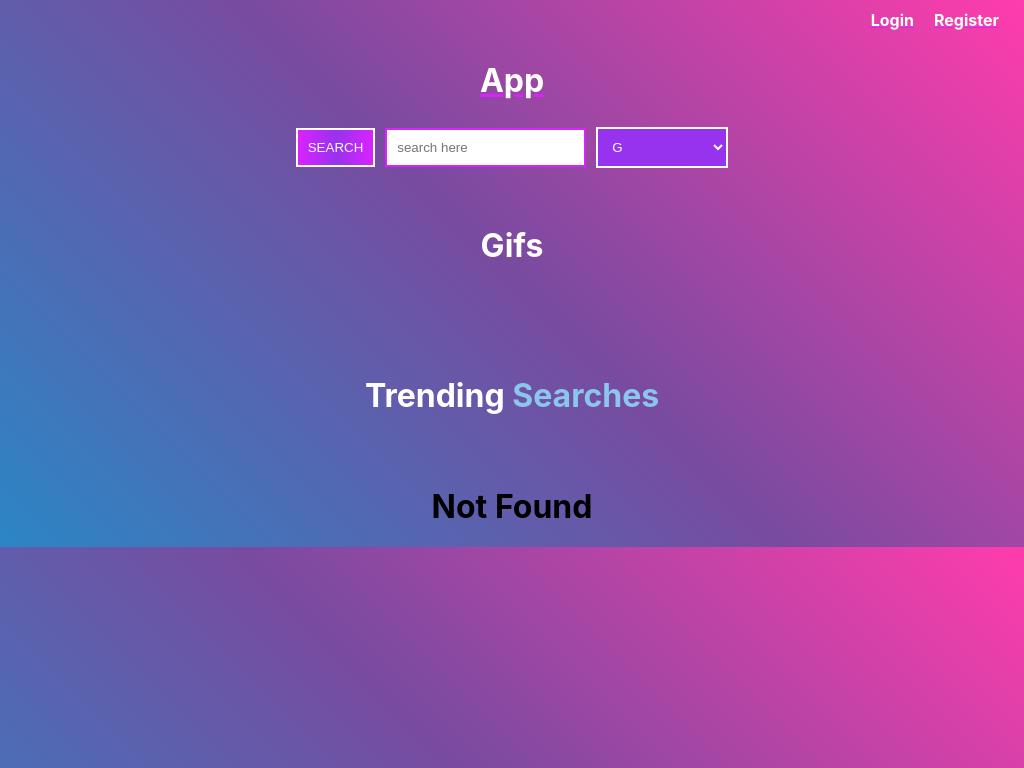
Scenario: Gif App › Logging fails with wrong password UI
Click the link "Login": (893,20) [871,10,914,30]
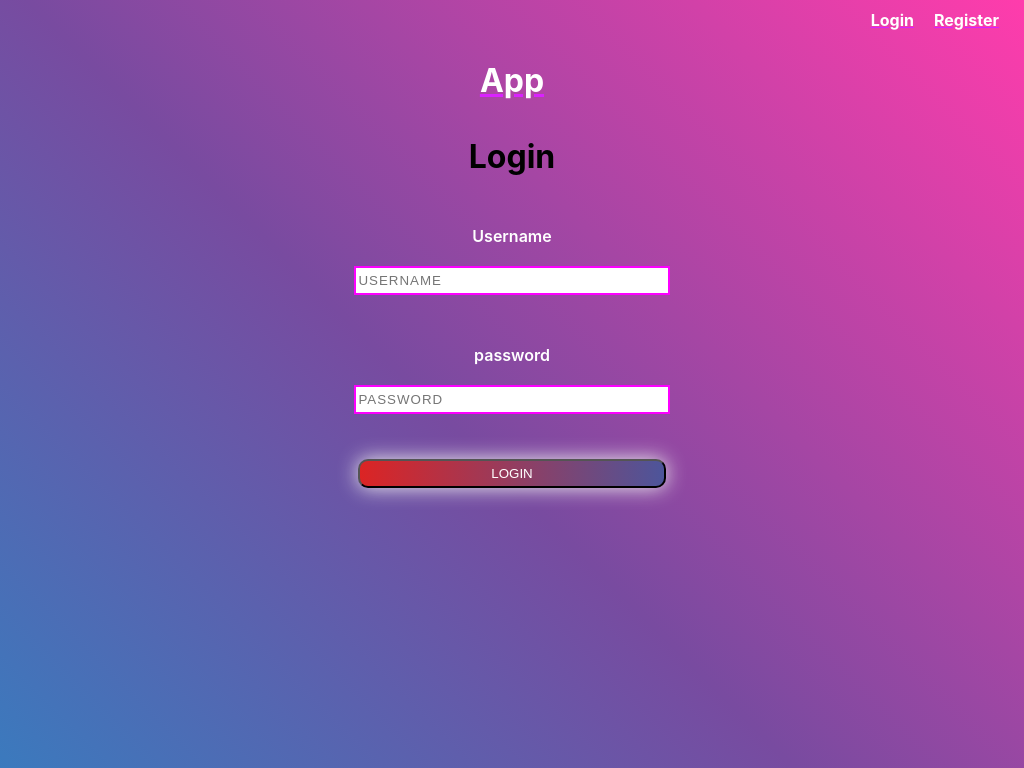
In the field with placeholder "USERNAME": (512,281) [354,266,669,295], type "SebasGecko00"
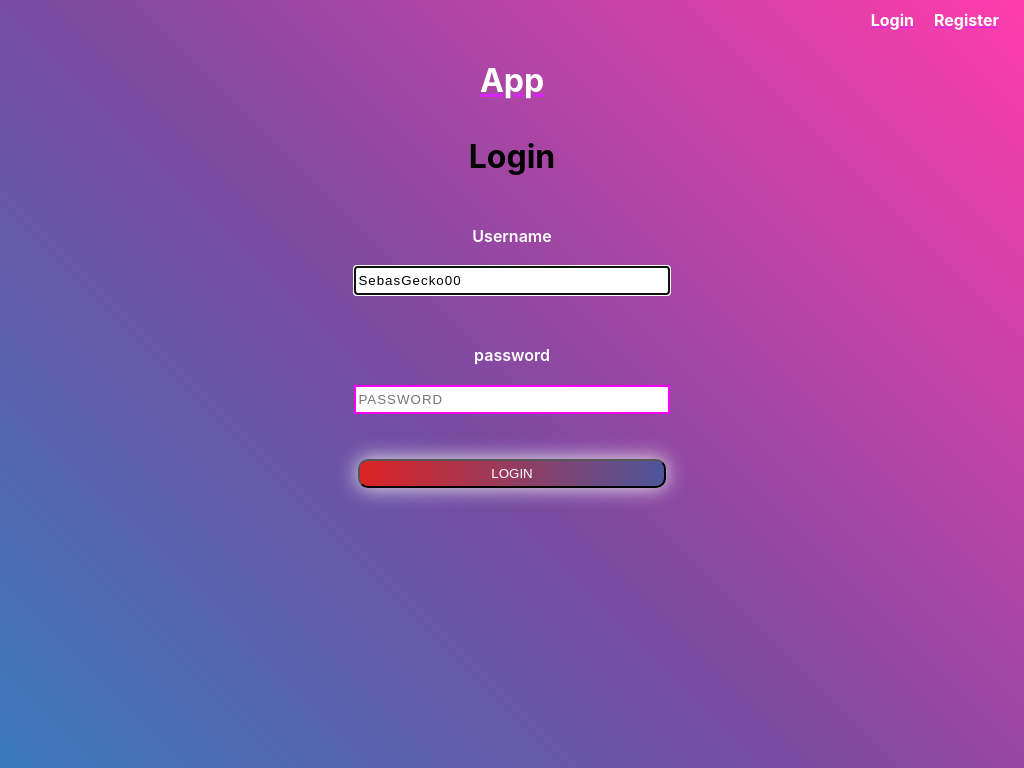
In the password field with placeholder "PASSWORD": (512,400) [354,385,669,414], type "00"
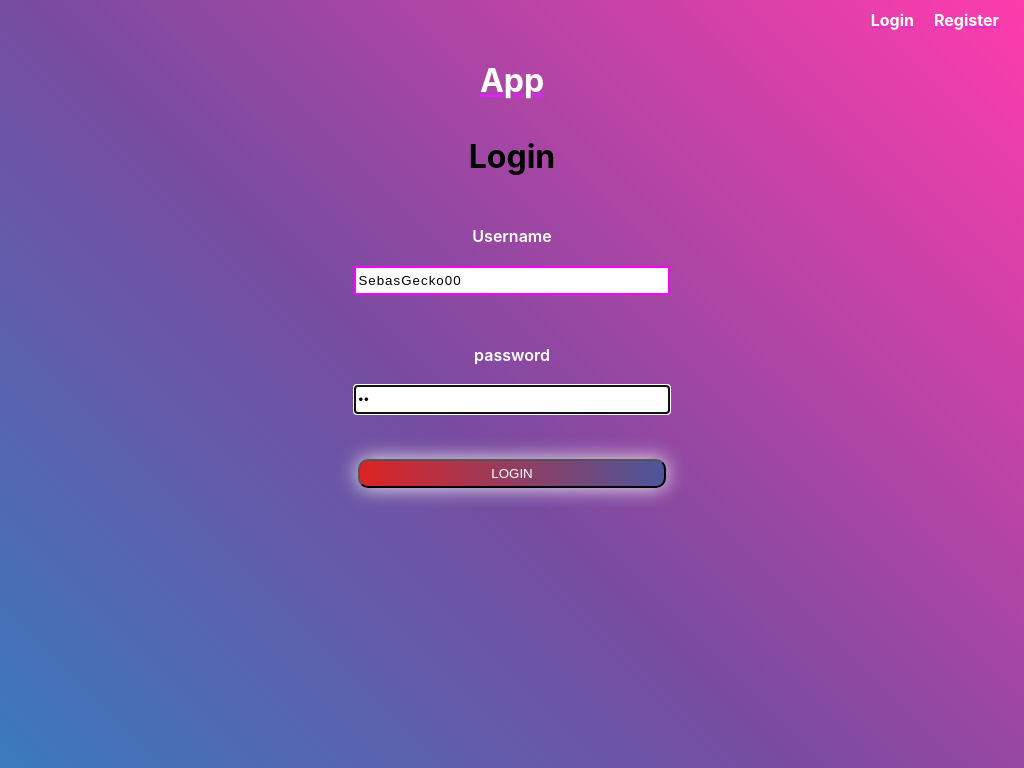
Click the button with id "Test-Button-Login": (512,474) [358,459,665,488]
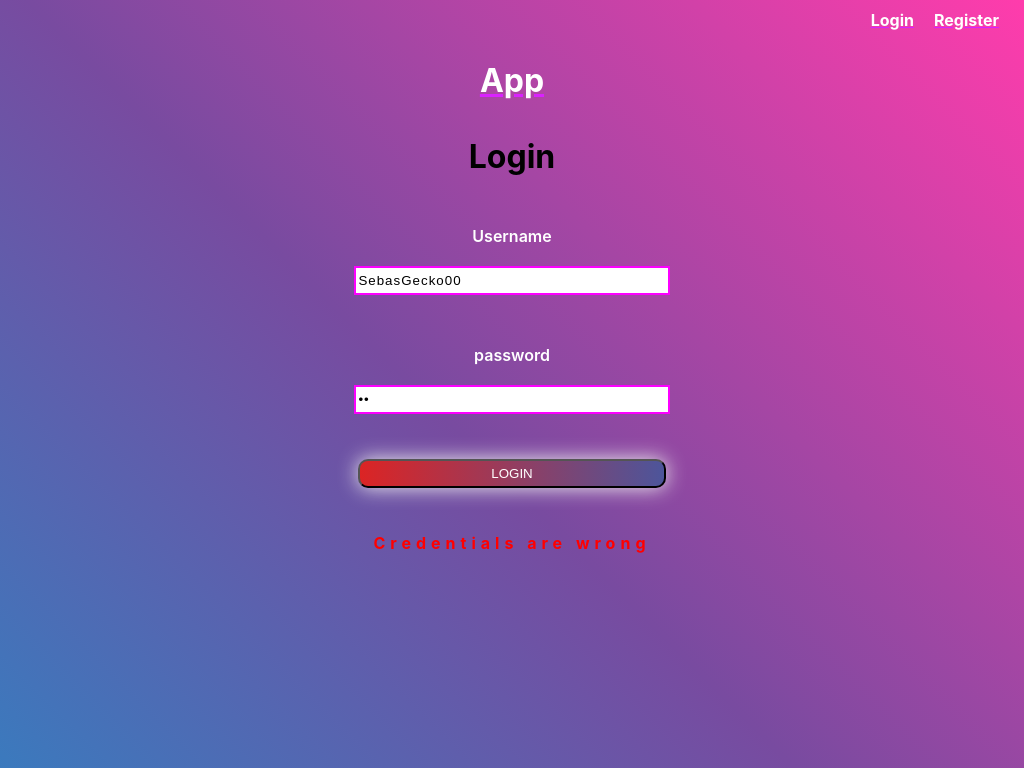
Now the text "Credentials are wrong" is shown, box [358,528,666,558]
